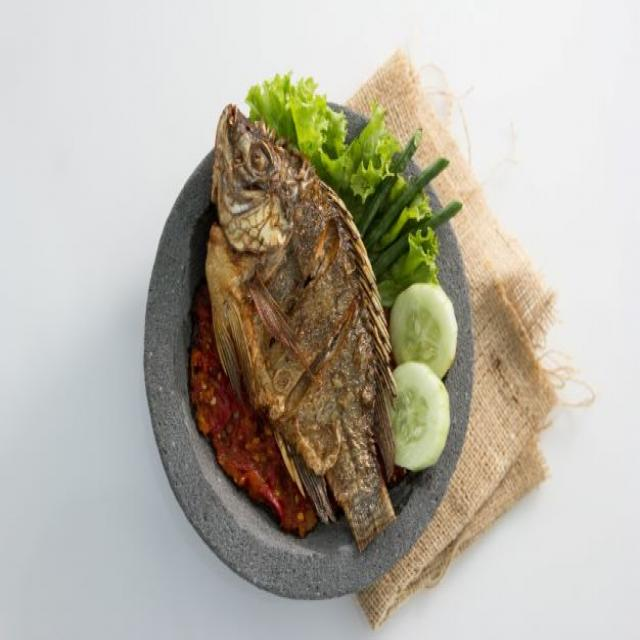ikan goreng: (207, 105, 403, 548)
